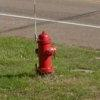Hydrant: (31, 26, 69, 84)
